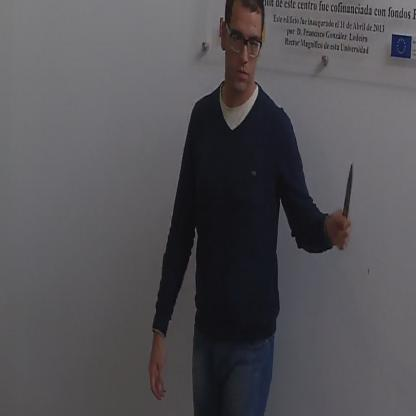knife: (336, 156, 356, 258)
